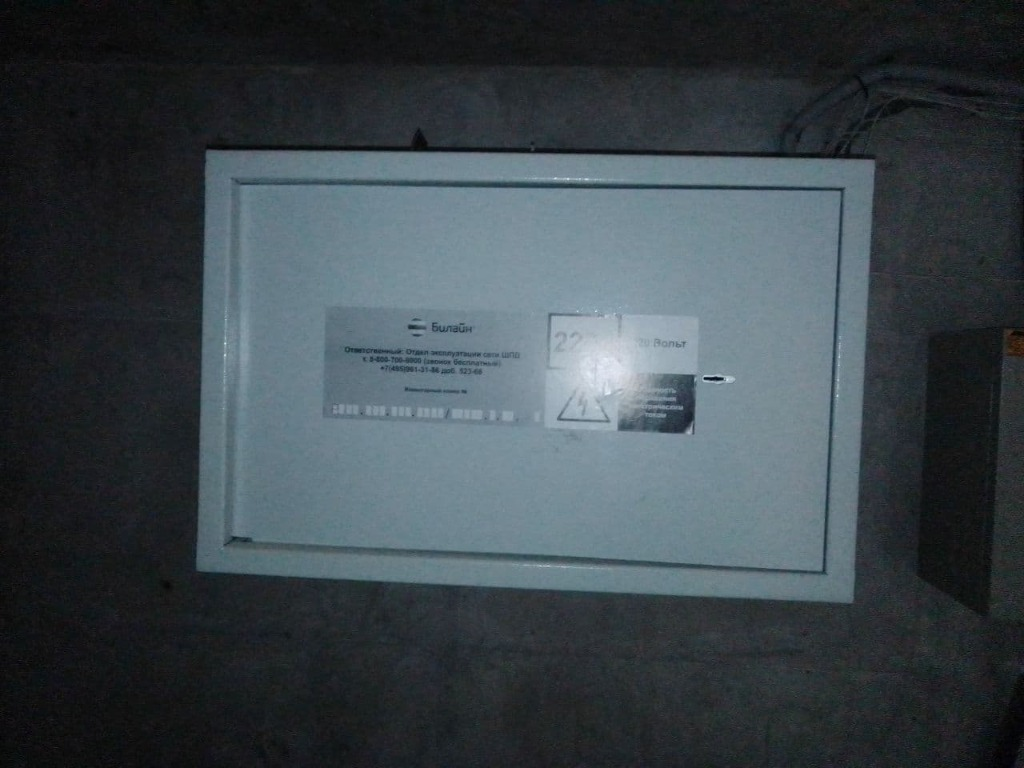shta-7m: (176, 131, 887, 619)
